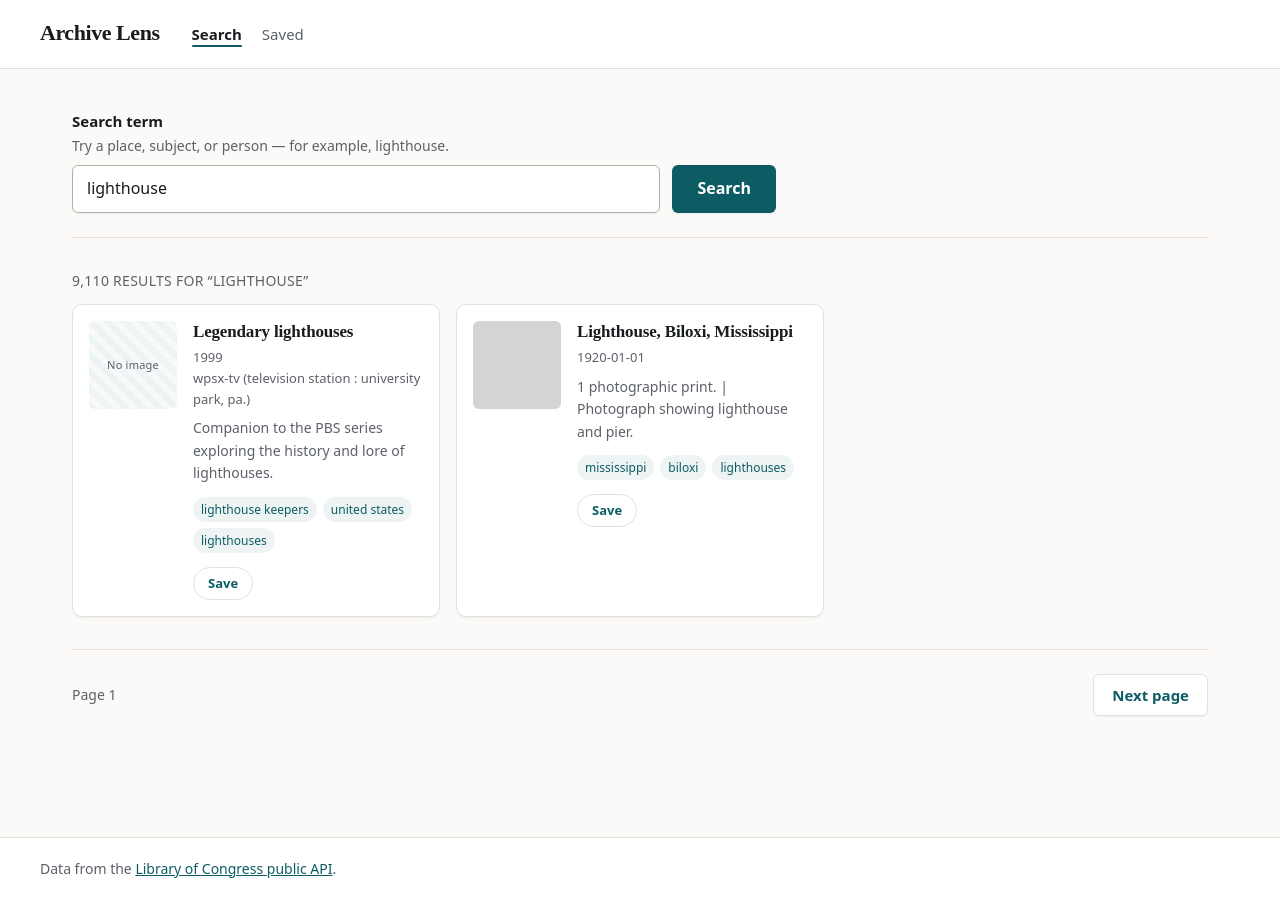
Saving items › saves from a result card and shows it on the saved page
Click the button with class "card__save" below "lighthouse keepers" at coordinates (223, 584), box [193,567,253,600]
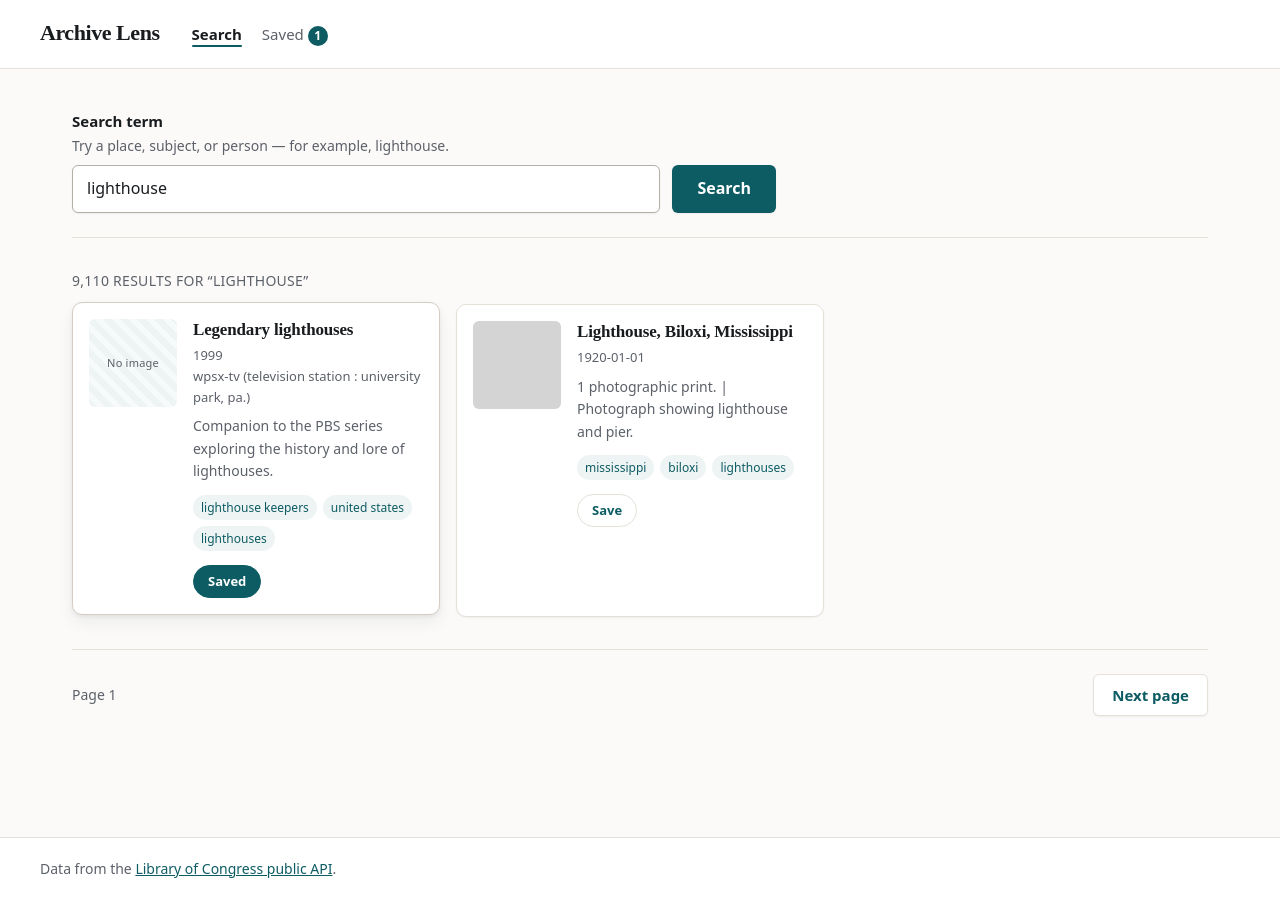
Now the button with class "card__save" reads "Saved", box [193,565,261,598]
Now the text with class "badge" reads "1", box [308,26,328,46]
Click the link "Saved 1" at coordinates (295, 35), box [262,24,328,46]
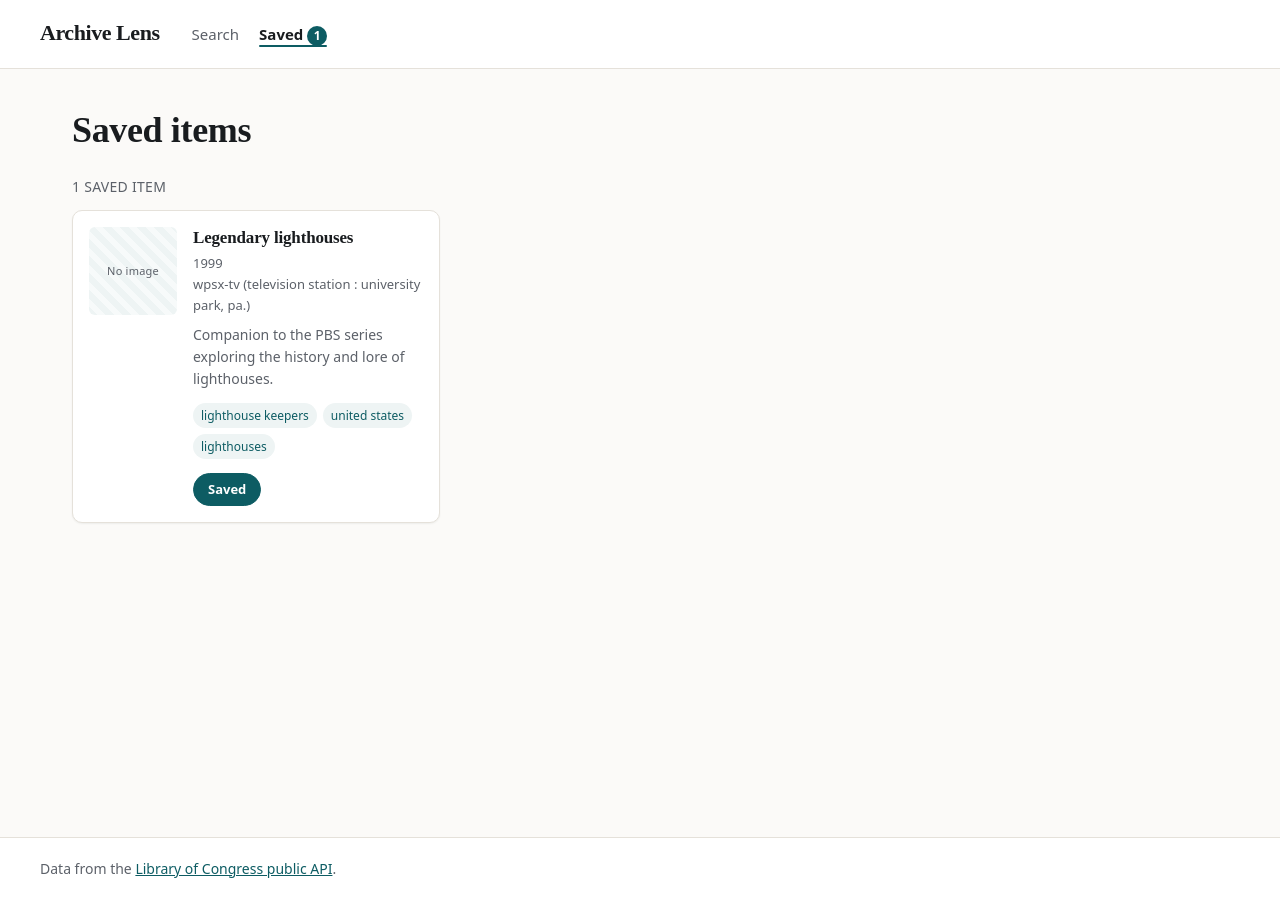
Now the text "Legendary lighthouses" is shown, box [193,228,353,247]
Now the text "1 saved item" is shown, box [72,177,166,196]
